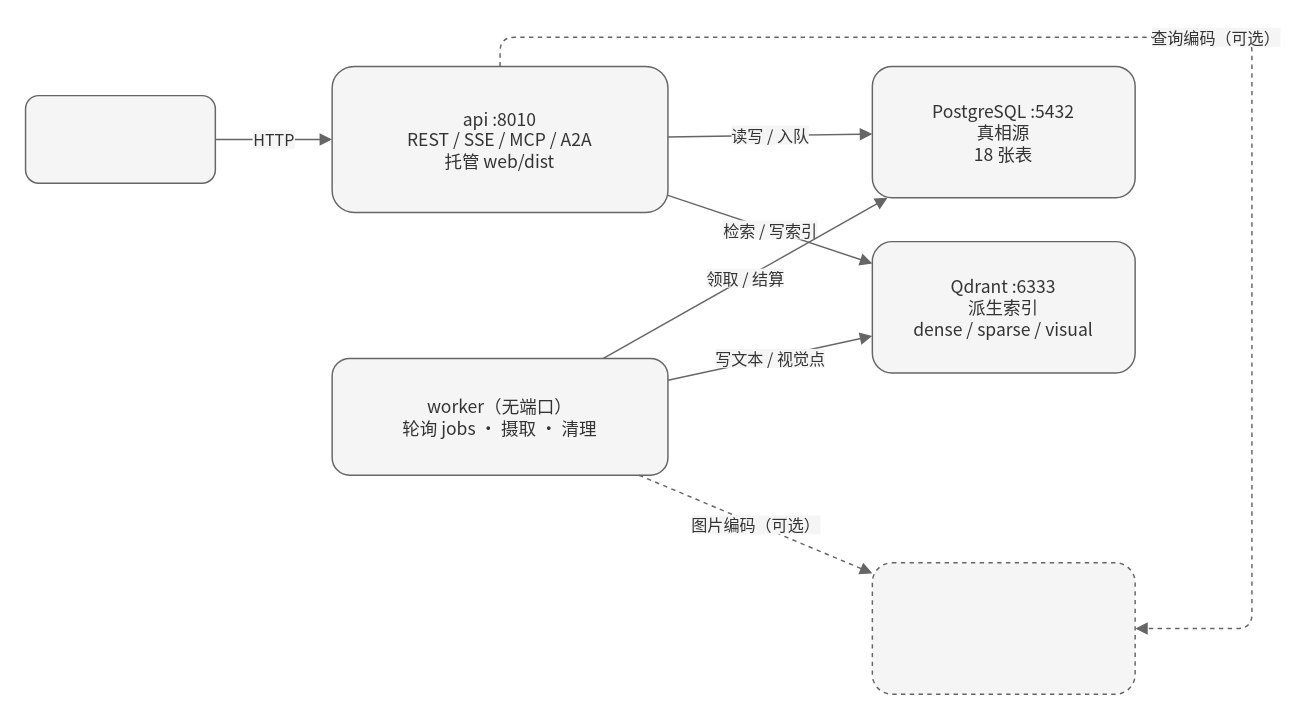
Image size: 1305x720. Some labels were removed from this diagram. The centre of each missing label's shape, as x and y in pixels:
visual_service :8020 只做视觉编码 不查 Qdrant、不做租户判定: [1003,627]
浏览器 / 客户端: [119,138]
